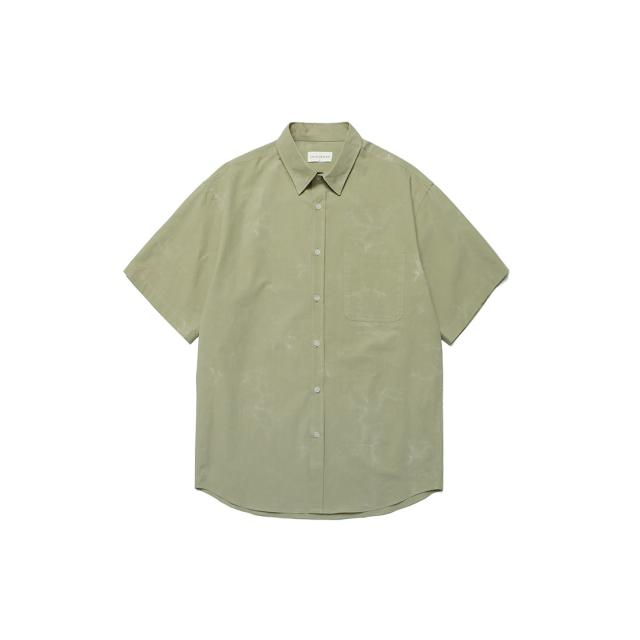Blouse_deep: (132, 112, 508, 504)
